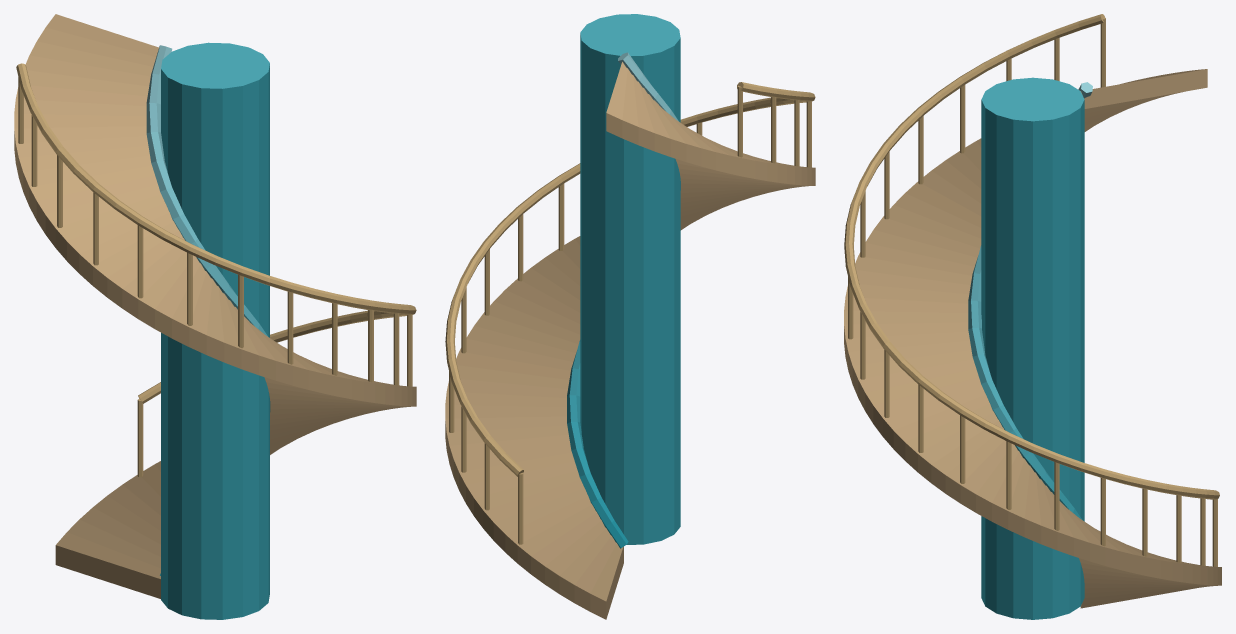
The model's file is goo_jar_stair@beach.fbx.
The picture shows the model from 3 angles, left to right: view 1: azimuth 30°, elevation 25°; view 2: azimuth 150°, elevation 25°; view 3: azimuth 270°, elevation 25°; orthographic projection. The views are drawn at different scales.
Parts seen in each view (by area): view 1: goo_jar_stair; view 2: goo_jar_stair; view 3: goo_jar_stair.
Boxes of the visible parts, <box> form: goo_jar_stair: <box>14,14,416,619</box>; goo_jar_stair: <box>445,14,815,619</box>; goo_jar_stair: <box>844,14,1221,619</box>.
Size of the model in its own units: 10.99 by 17.03 by 10.99.
